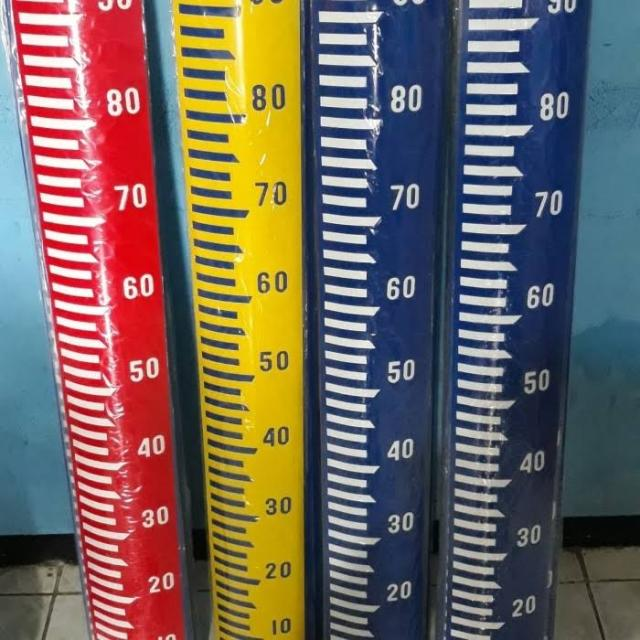staff: (8, 0, 179, 640), (164, 0, 311, 636), (307, 0, 447, 640), (456, 0, 590, 640)
